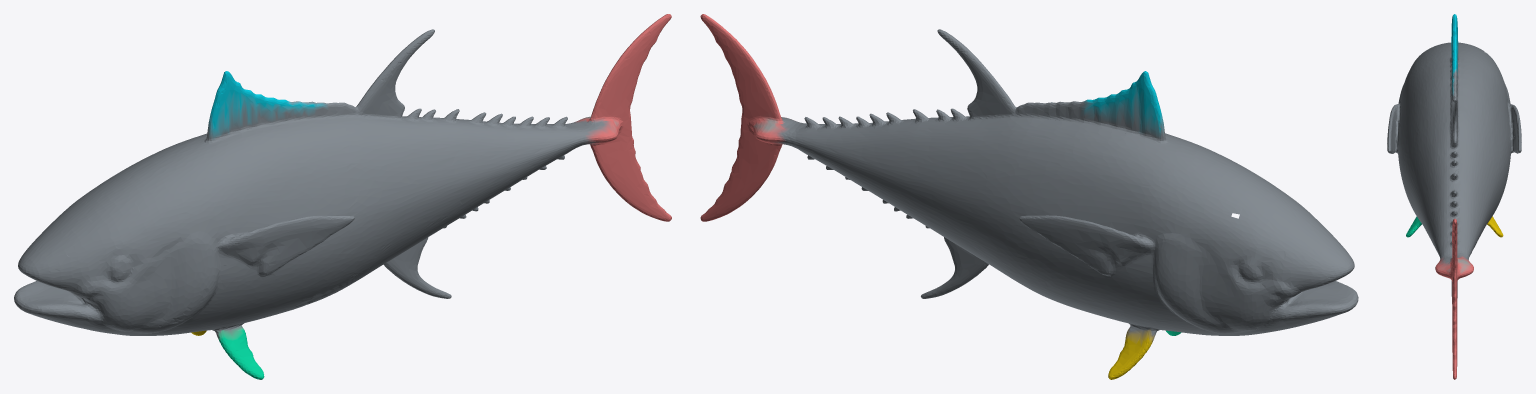
File: 01_segmented_mesh.glb
3 views of the same model, side by side, from view 1: azimuth 30°, elevation 25°; view 2: azimuth 150°, elevation 25°; view 3: azimuth 270°, elevation 25° (orthographic). The views are drawn at different scales.
Visible parts, largest first — view 1: world; view 2: world; view 3: world.
Boxes of the visible parts, box(x1,y1,x2,y2) form: world: box(14, 14, 671, 379); world: box(700, 14, 1358, 379); world: box(1387, 14, 1521, 379).
Size of the model in its own units: 1.74 by 0.7324 by 0.4036.
